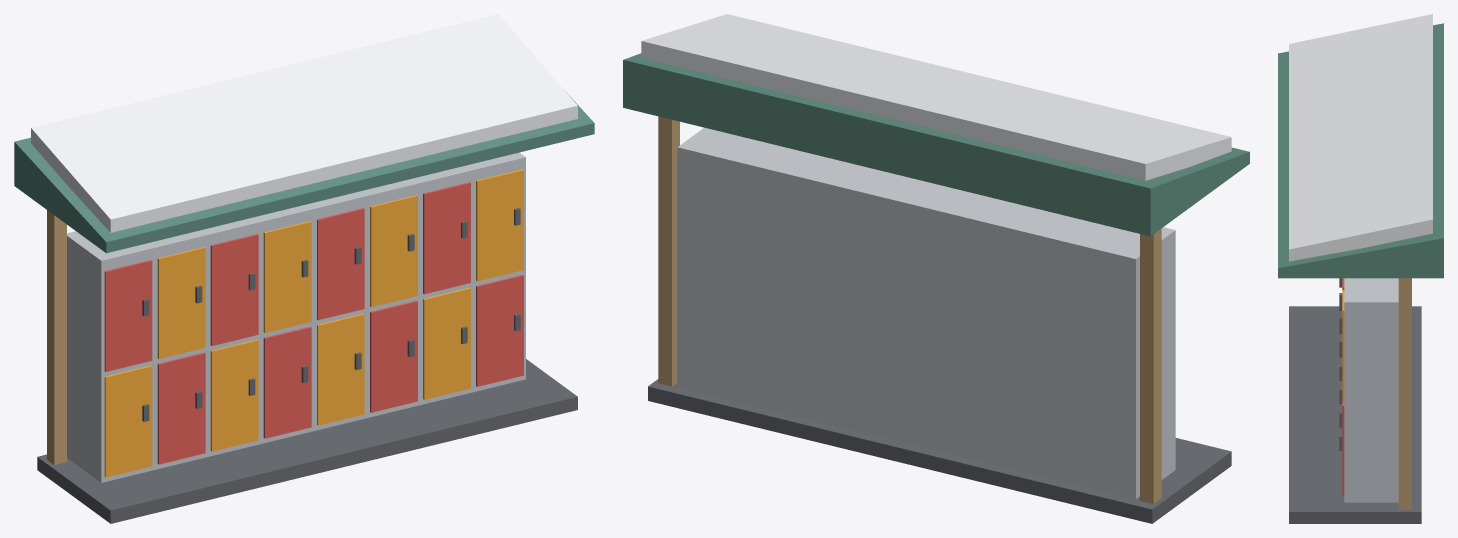
Rendered from ski-resort-and-snow-park-gear-locker-block-cd305565__26002.glb.
3 renders of one model, left to right at view 1: azimuth 30°, elevation 25°; view 2: azimuth 150°, elevation 25°; view 3: azimuth 270°, elevation 25°, orthographic. The views are drawn at different scales.
Parts seen in each view (by area): view 1: gear-locker-block; view 2: gear-locker-block; view 3: gear-locker-block.
Boxes of the visible parts, x1=… form: gear-locker-block: x1=14, y1=14, x2=594, y2=523; gear-locker-block: x1=623, y1=14, x2=1249, y2=523; gear-locker-block: x1=1278, y1=14, x2=1443, y2=523.
Bounding box in the file's own units: 4.6 × 3.04 × 1.5.
